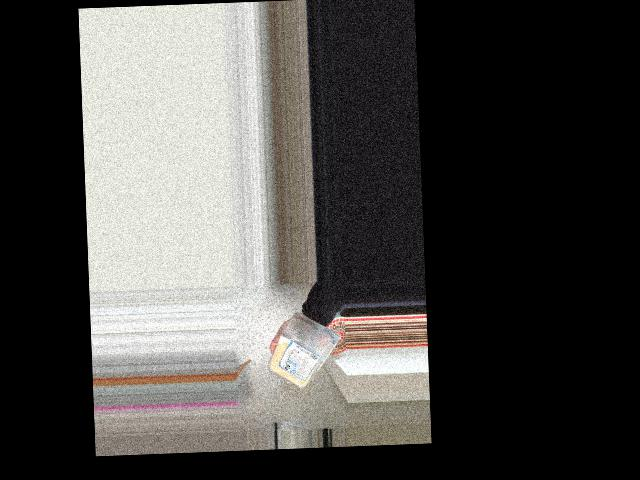cheese: (276, 320, 336, 392)
